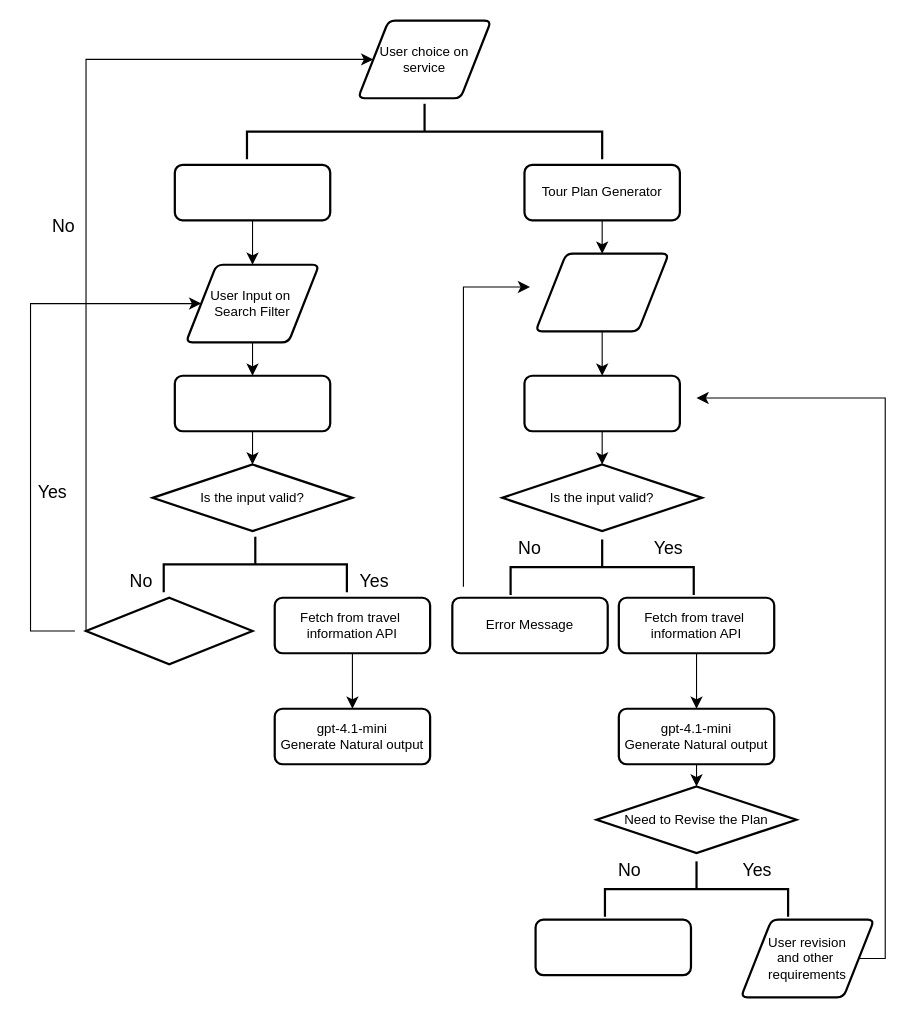
This 916x1017 diagram has some shape labels left out. Each missing label, with the centre of its shape:
Done: the point at 613,947
gpt-4.1-mini (input validation: the point at 252,403
gpt-4.1-mini: user input validation and parsing: the point at 601,403
If user want to re-input: the point at 168,630
Travel Information Search: the point at 252,192
User requirement: the point at 601,292
